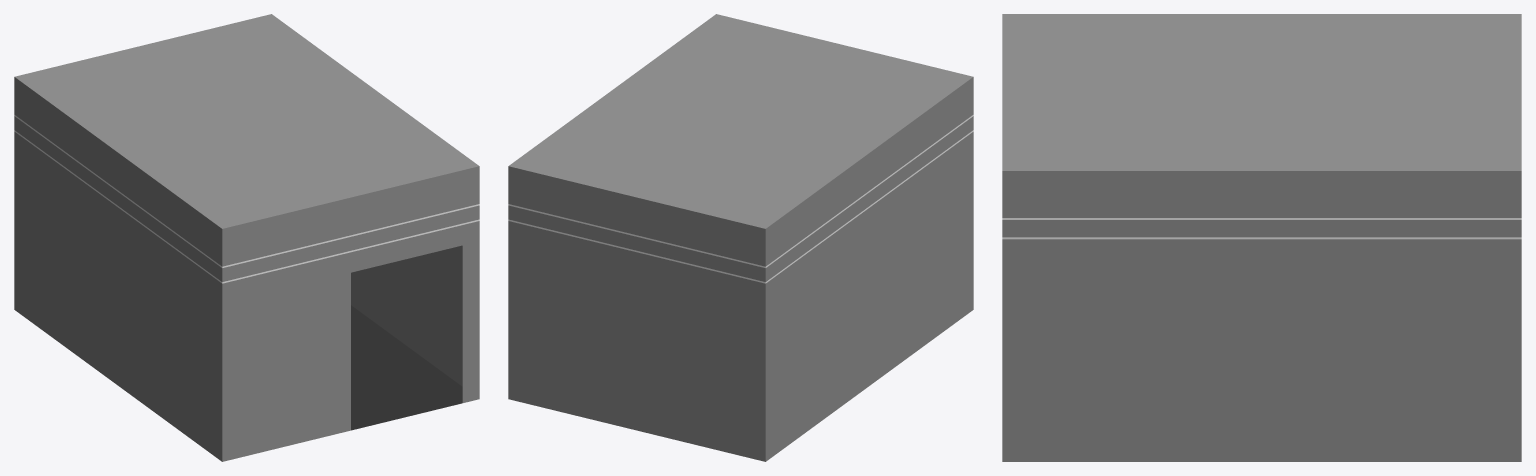
File: Orellian_Room_01.fbx
3 views of the same model, side by side, from view 1: azimuth 30°, elevation 25°; view 2: azimuth 150°, elevation 25°; view 3: azimuth 270°, elevation 25° (orthographic). The views are drawn at different scales.
Parts seen in each view (by area): view 1: Orellian_Room_01; view 2: Orellian_Room_01; view 3: Orellian_Room_01.
Boxes of the visible parts, x1,y1,x2,y2 form: Orellian_Room_01: [14, 14, 479, 461]; Orellian_Room_01: [508, 14, 973, 461]; Orellian_Room_01: [1002, 14, 1521, 461].
Bounding box in the file's own units: 5.96 × 5.16 × 8.34.
